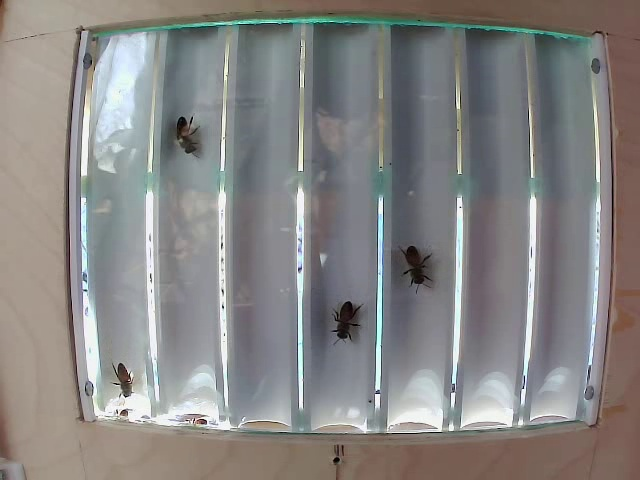bee: (158, 90, 203, 168), (406, 237, 432, 294), (329, 302, 367, 337), (114, 354, 143, 392)
